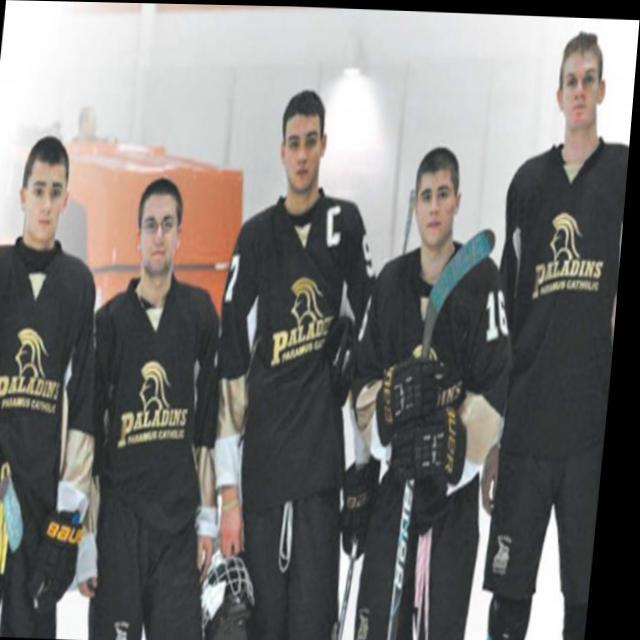Nonhelmet: (3, 128, 82, 246), (272, 79, 344, 201), (549, 18, 615, 142), (126, 165, 192, 286), (400, 139, 470, 251)
